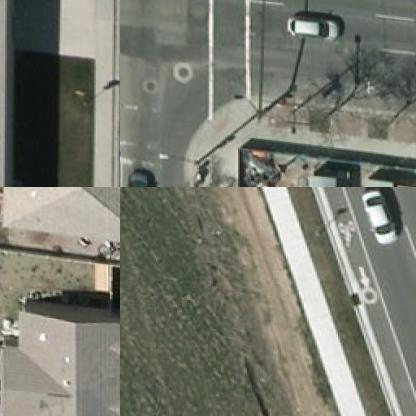car: (362, 187, 402, 242), (285, 3, 342, 36), (127, 165, 159, 186)
